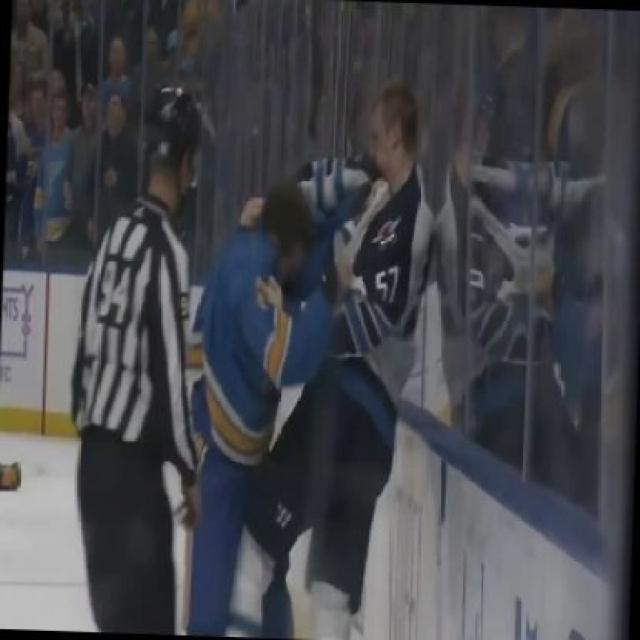fight: (184, 80, 433, 640)
non-fight: (72, 84, 200, 640)
